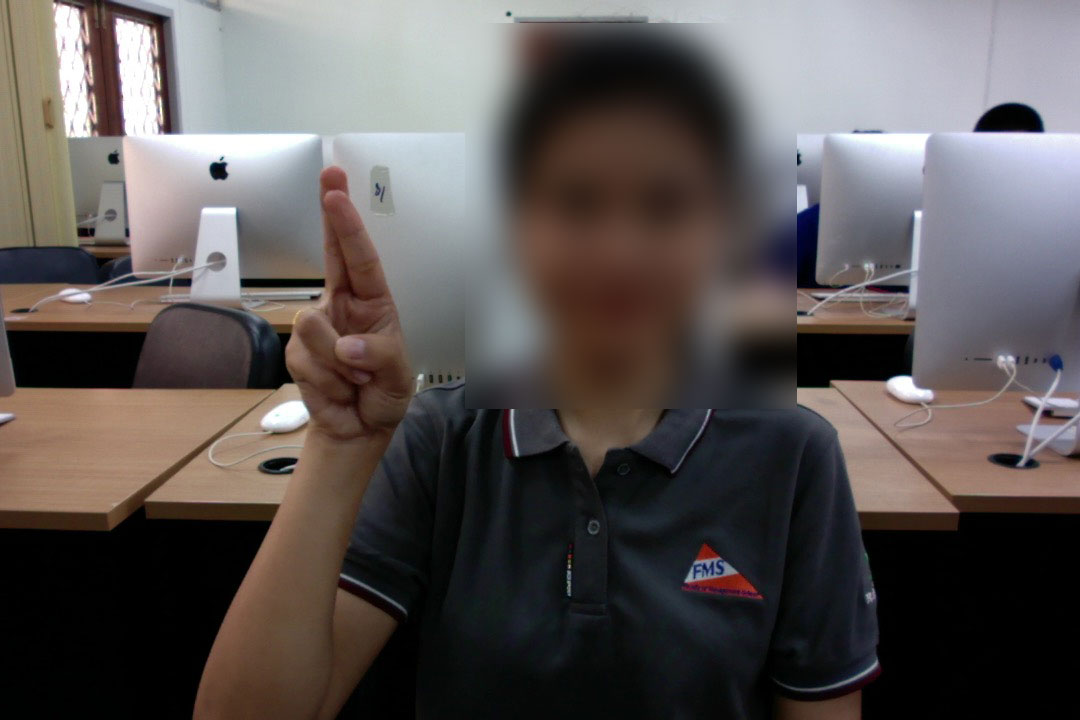rao: (276, 163, 433, 445)
